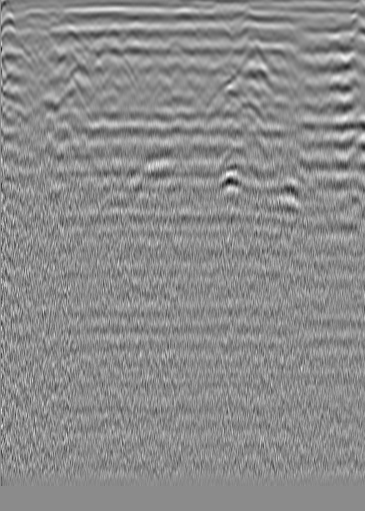가스: (214, 139, 257, 176)
상수: (319, 12, 339, 32)
오수: (20, 27, 50, 52)
우수: (166, 38, 186, 58)
